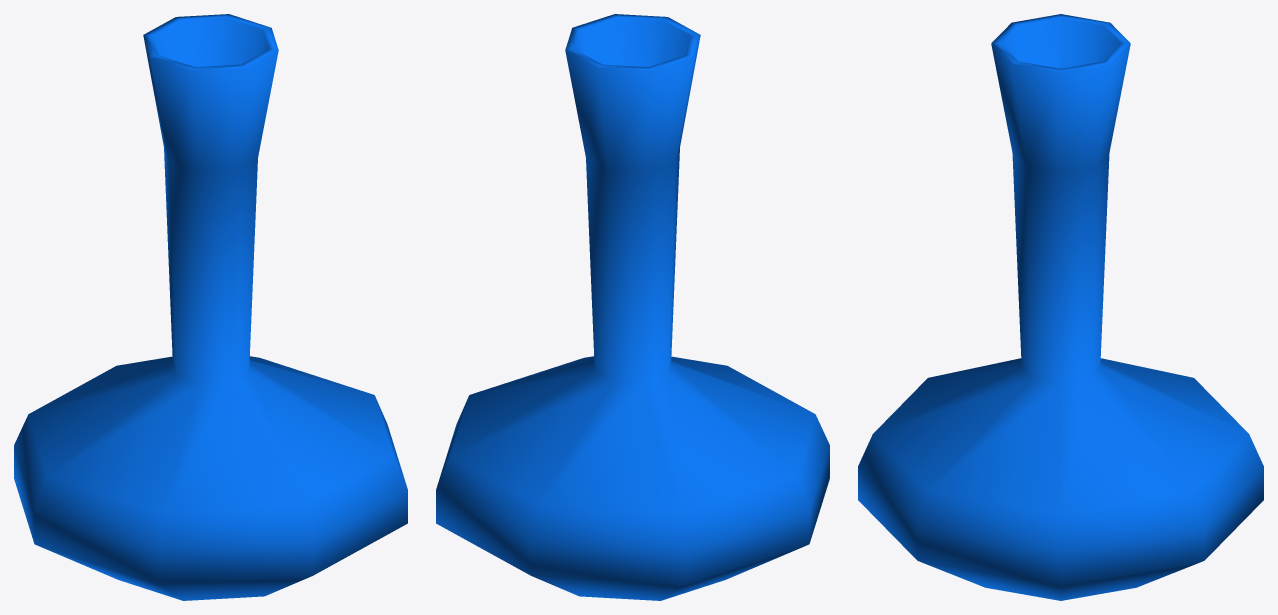
Rendered from Vase_05.FBX.
3 renders of one model, left to right at view 1: azimuth 30°, elevation 25°; view 2: azimuth 150°, elevation 25°; view 3: azimuth 270°, elevation 25°, orthographic.
Visible parts, largest first — view 1: Vase; view 2: Vase; view 3: Vase.
Boxes of the visible parts, left/top/right/bottom form: Vase: left=14, top=14, right=407, bottom=600; Vase: left=436, top=14, right=829, bottom=600; Vase: left=858, top=14, right=1263, bottom=600.
Bounding box in the file's own units: 72.06 × 100 × 72.06.
